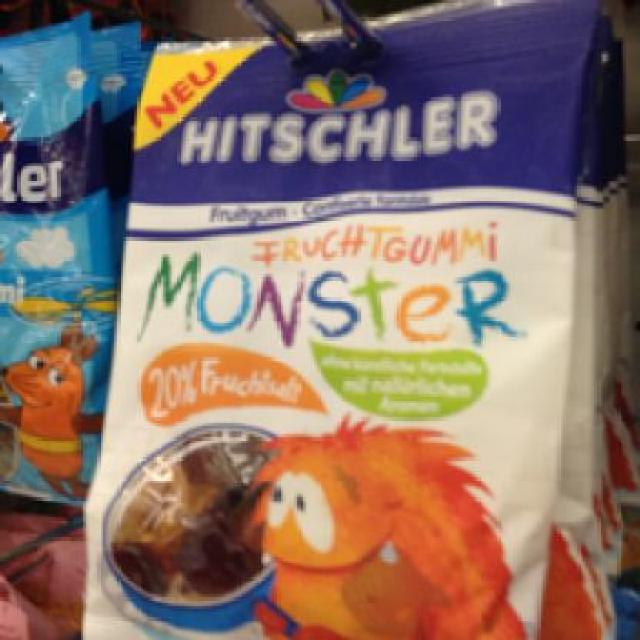Candy: (97, 14, 586, 637)
